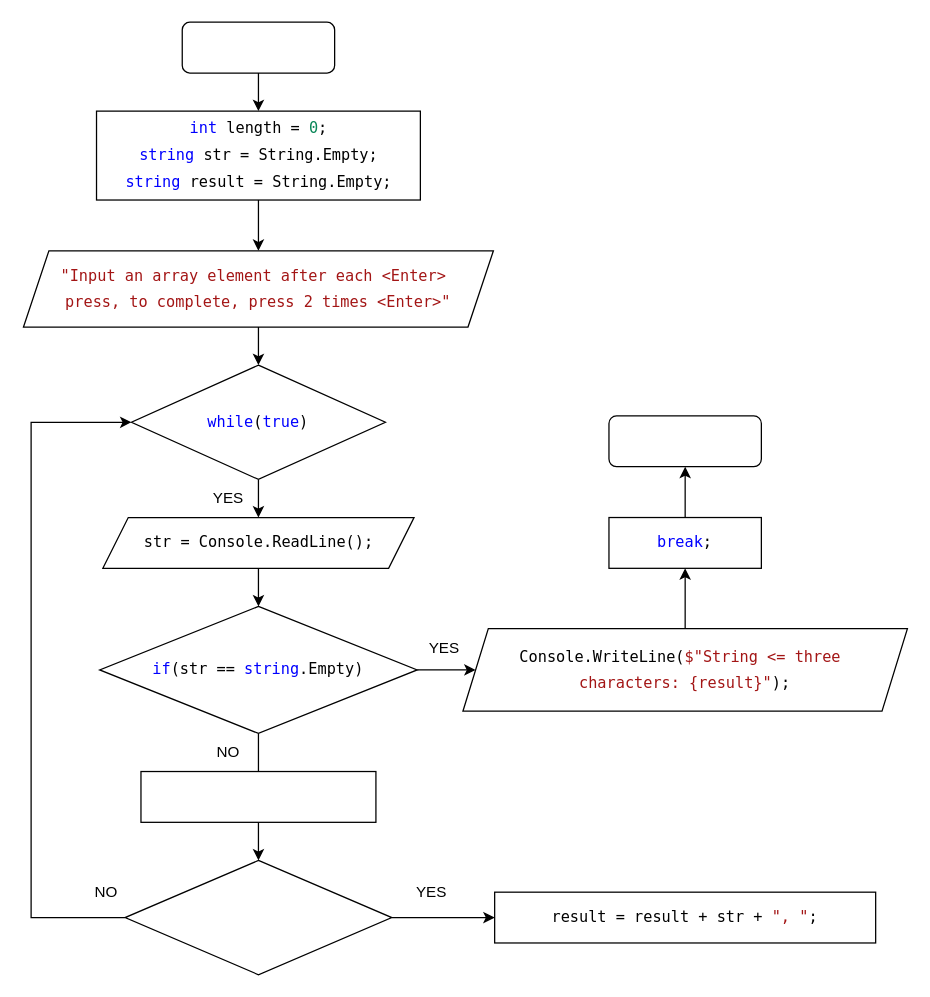
The diagram is 930 pixels wide and 997 high, and some of its shapes have lost their labels. The centre of each missing label's shape, as x and y in pixels:
"Finish" goes at point (684, 441).
"if (length <= 3 )" goes at point (258, 917).
"length = str.Length;" goes at point (258, 796).
"Start" goes at point (258, 47).
